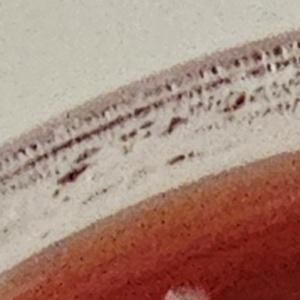colony: (161, 282, 215, 300)
